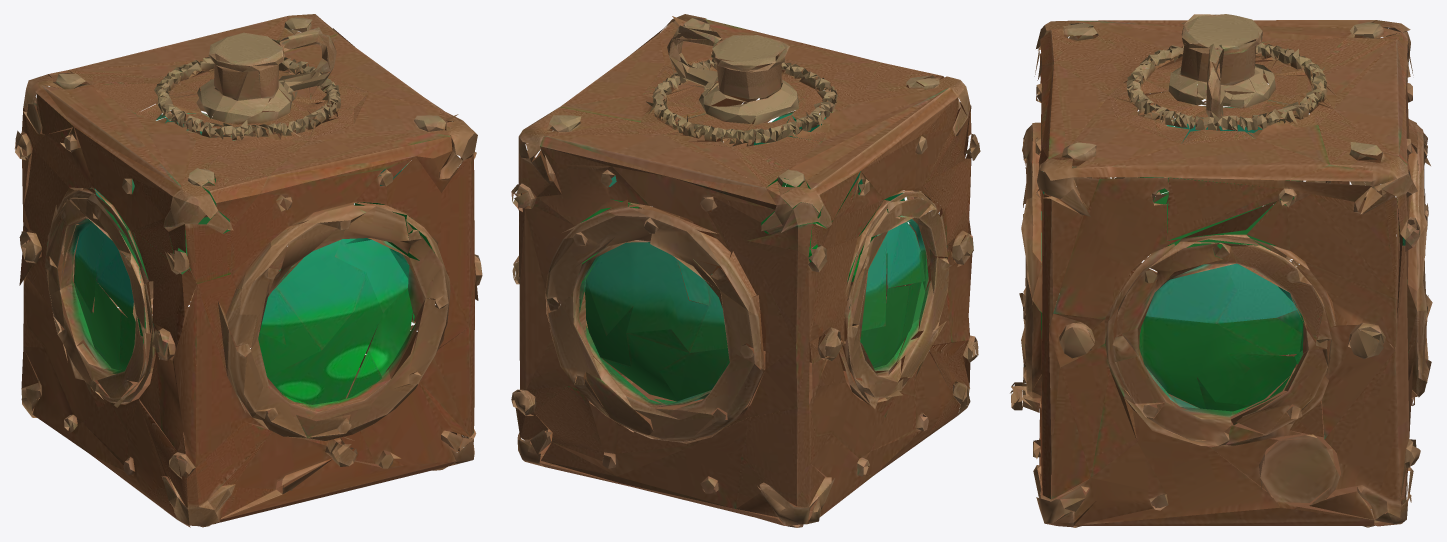
File: trap.glb
3 views of the same model, side by side, from view 1: azimuth 30°, elevation 25°; view 2: azimuth 150°, elevation 25°; view 3: azimuth 270°, elevation 25° (orthographic). The views are drawn at different scales.
Parts seen in each view (by area): view 1: Mesh_0; view 2: Mesh_0; view 3: Mesh_0.
Part boxes in pixels (x1,y1,x2,y2): Mesh_0: [14, 14, 482, 527]; Mesh_0: [511, 14, 980, 527]; Mesh_0: [1010, 14, 1432, 527].
Size of the model in its own units: 0.4057 by 0.4763 by 0.42.
1 material, 1 textured.
